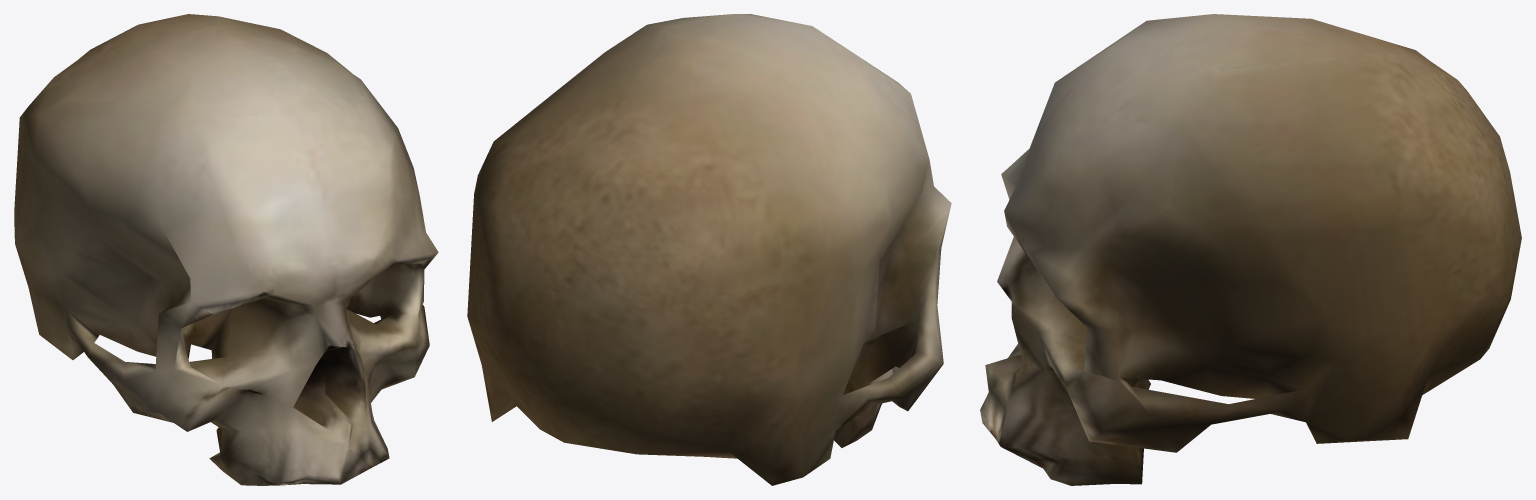
The model's file is skull_08.glb.
3 renders of one model, left to right at view 1: azimuth 30°, elevation 25°; view 2: azimuth 150°, elevation 25°; view 3: azimuth 270°, elevation 25°, orthographic. The views are drawn at different scales.
Parts seen in each view (by area): view 1: skull_08; view 2: skull_08; view 3: skull_08.
Part boxes in pixels (x1,y1,x2,y2): skull_08: (14,14,438,485); skull_08: (467,14,951,485); skull_08: (980,14,1521,485).
Bounding box in the file's own units: 0.152 × 0.1758 × 0.205.
Materials: 1 (1 with a texture image).
